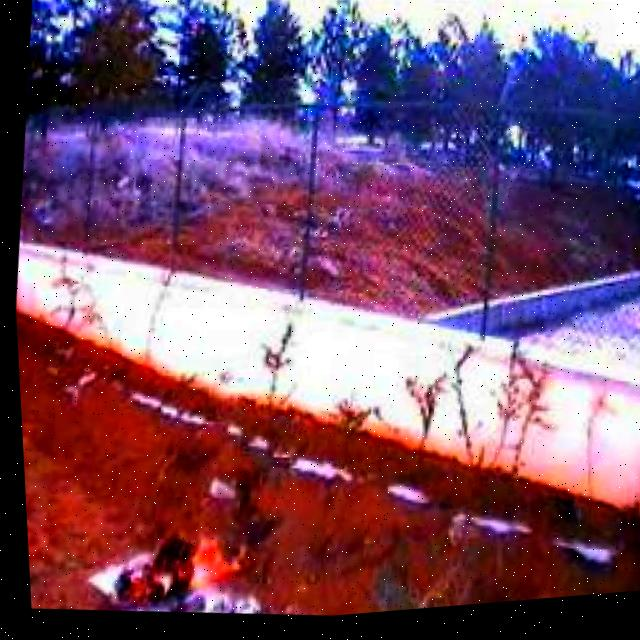Fire: (100, 516, 252, 626)
